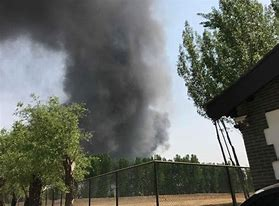smoke: (41, 1, 166, 154)
